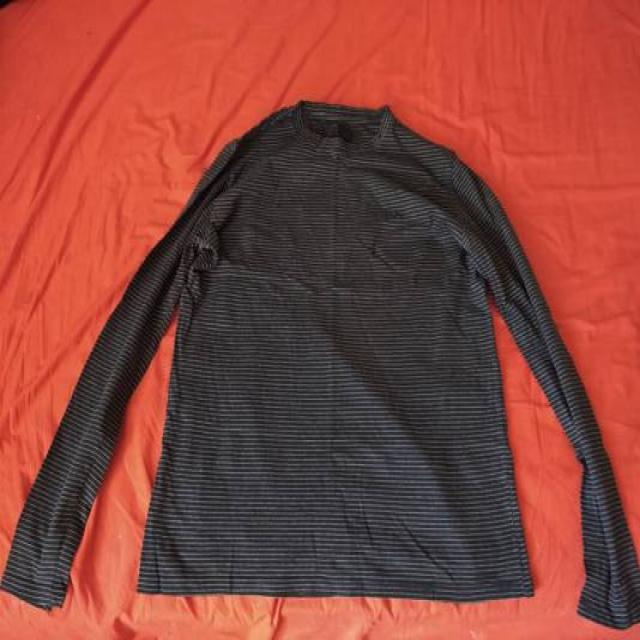Clothes -Biodegradable-: (5, 95, 640, 619)
